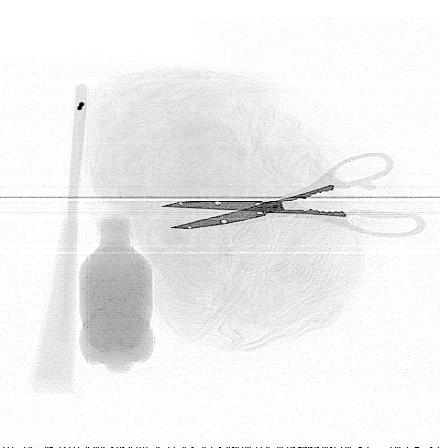Scissors: (158, 151, 429, 239)
